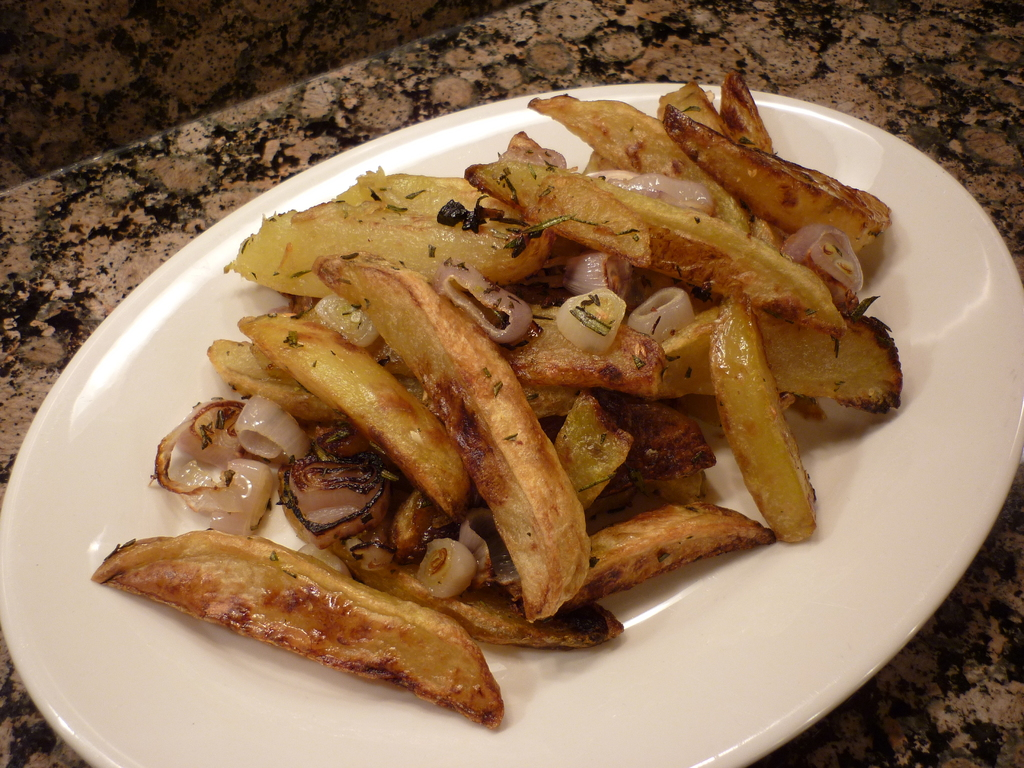French fries: (92, 68, 904, 731)
